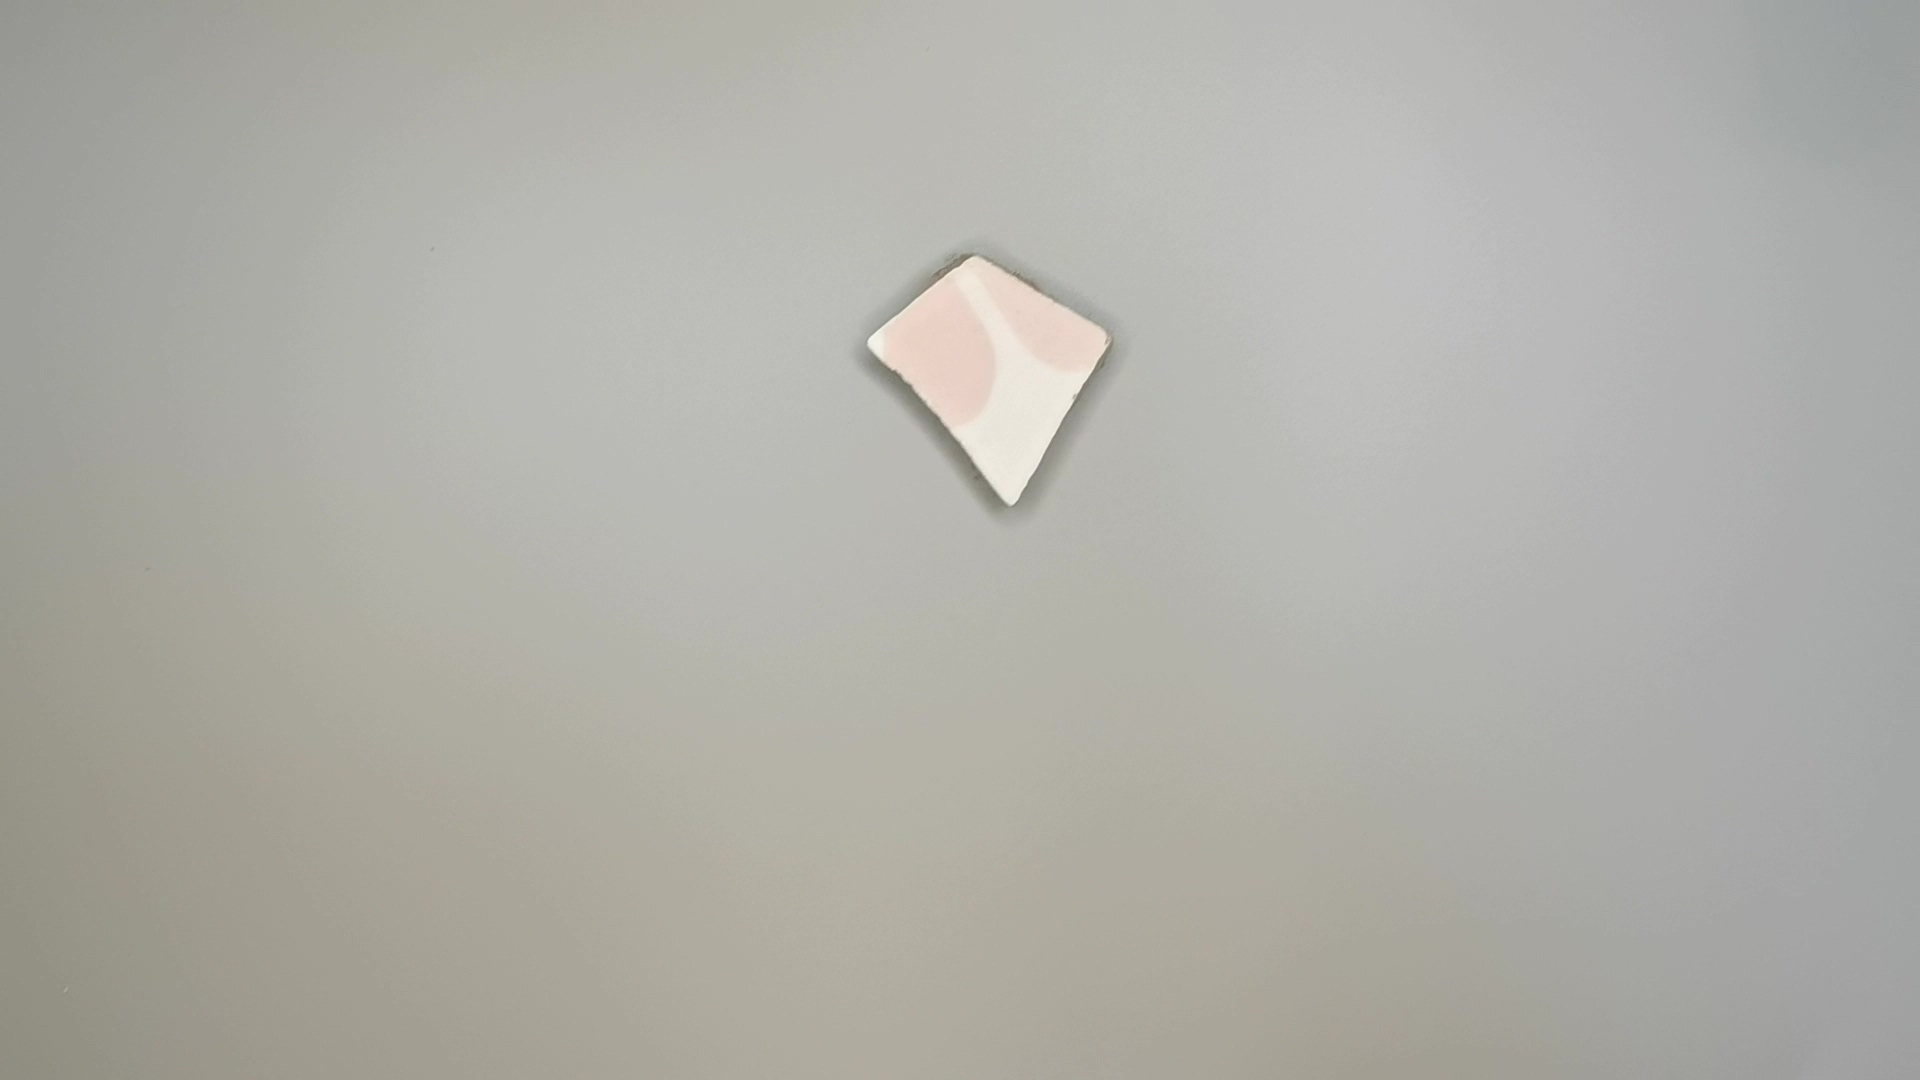ceramic: (866, 247, 1125, 520)
